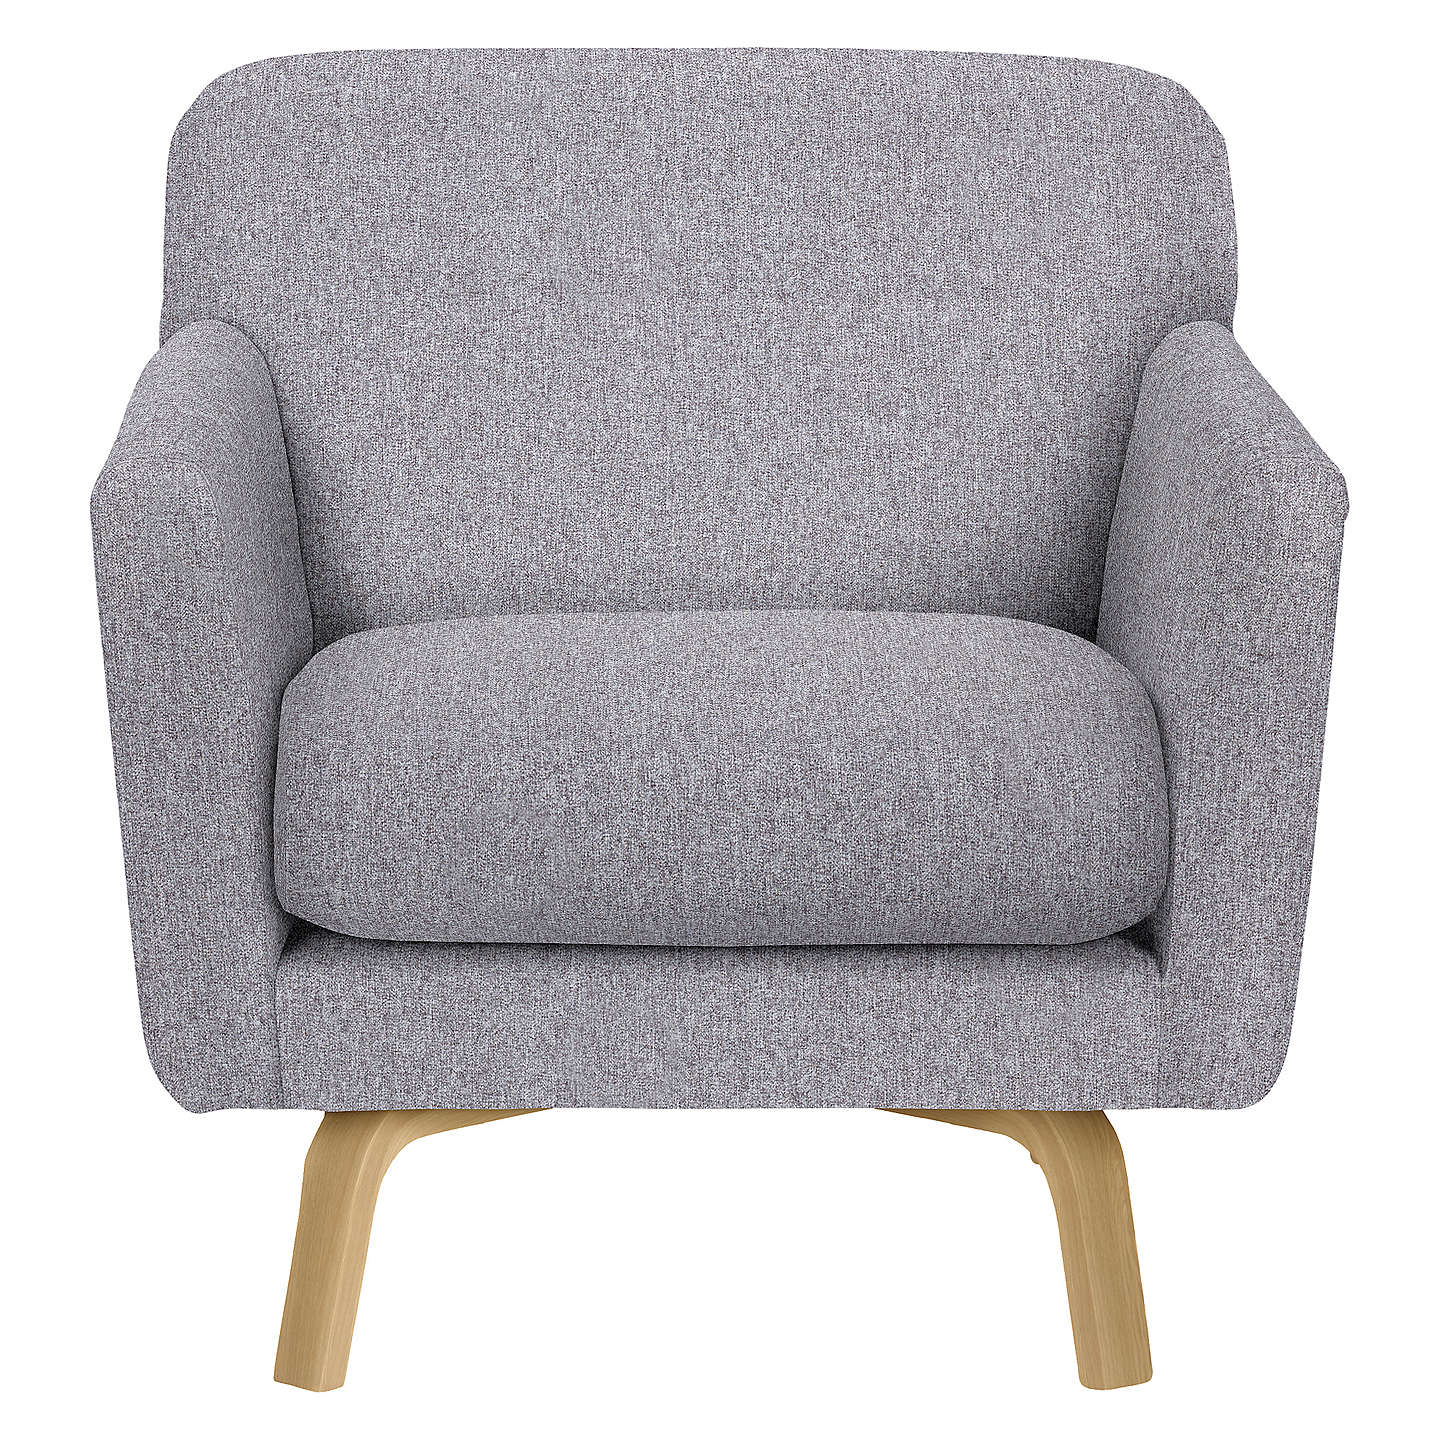chairs: (88, 45, 1353, 1408)
